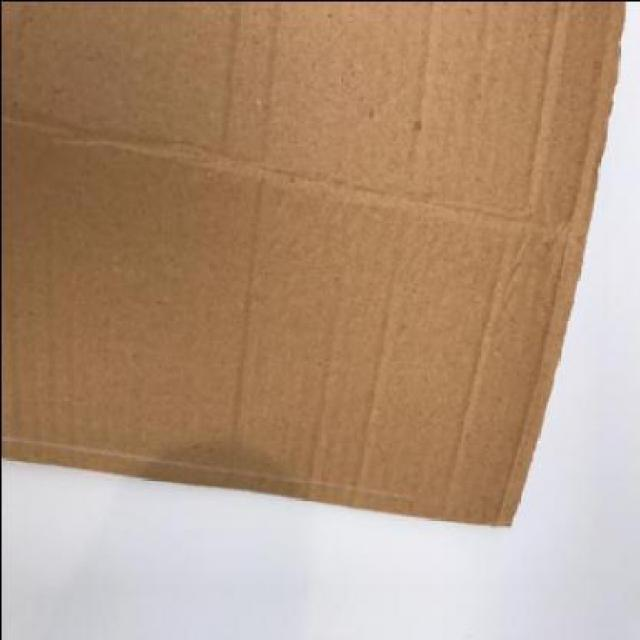box: (0, 2, 626, 525)
